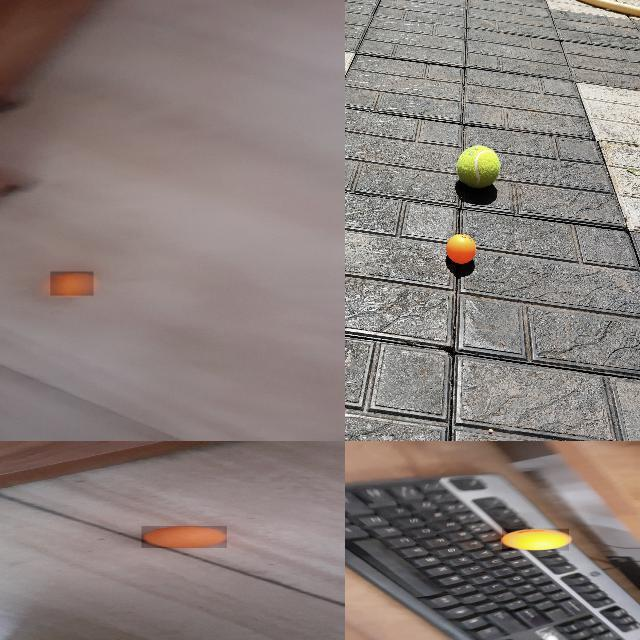ping-pong-ball: (142, 526, 228, 548), (502, 528, 570, 552), (50, 272, 95, 296), (446, 233, 476, 265)
